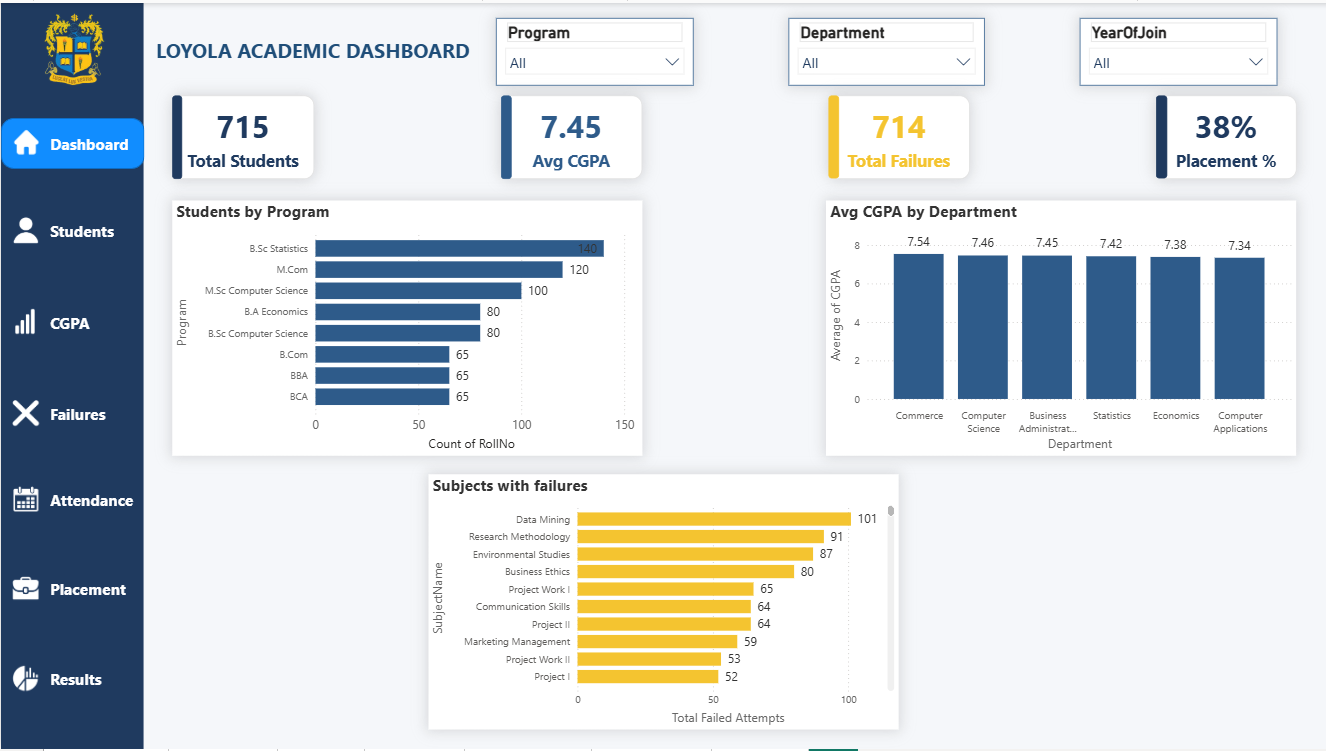

This screenshot's page, from the dashboard's own definition file:
{"tool":"powerbi","page":{"name":"Dashboard","canvas":[1600,900],"ordinal":0},"visuals":[{"type":"shape","box":[0,0,171.9,900.3],"z":0},{"type":"card","fields":{"Values":["students.Total Students"]},"box":[206.6,111.6,171.3,101],"z":0,"group":"g10"},{"type":"card","fields":{"Values":["students.Total Failures"]},"box":[998.3,111.6,170.2,101],"z":0,"group":"g12"},{"type":"card","fields":{"Values":["students.Placement %"]},"box":[1393.4,111.6,169.5,101],"z":0,"group":"g1"},{"type":"group","id":"g1","title":"Group 5","box":[1393.4,111.6,169.5,101],"z":0,"group":"g13"},{"type":"card","fields":{"Values":["students.Avg CGPA"]},"box":[602.8,111.7,170.2,101],"z":0,"group":"g11"},{"type":"group","id":"g2","title":"Group 14","box":[0,138.9,173.1,61.3],"z":0,"group":"g14"},{"type":"shape","title":"Shape1","box":[0,138.9,173.1,61.3],"z":0,"group":"g2"},{"type":"image","title":"Home","box":[12.9,153.2,33.2,31.7],"z":0,"group":"g3"},{"type":"image","box":[12.9,257.2,33.2,33.2],"z":0,"group":"g4"},{"type":"image","box":[12.9,367.3,33.2,33.2],"z":0,"group":"g5"},{"type":"image","box":[12.9,477.4,33.2,33.2],"z":0,"group":"g6"},{"type":"image","box":[12.9,583,33.2,33.2],"z":0,"group":"g7"},{"type":"image","box":[12.9,688.5,33.2,33.2],"z":0,"group":"g8"},{"type":"image","box":[12.9,797.1,33.2,33.2],"z":0,"group":"g9"},{"type":"textbox","box":[173.4,36.2,405.7,64.8],"z":1000},{"type":"shape","box":[602.9,111.4,12.5,100.8],"z":1000,"group":"g11"},{"type":"shape","box":[206.8,111.8,12.4,101],"z":1000,"group":"g10"},{"type":"shape","box":[998,111.8,12.7,100],"z":1000,"group":"g12"},{"type":"shape","box":[1393.7,112,13.6,100],"z":1000,"group":"g1"},{"type":"group","id":"g3","title":"Group 6","box":[12.9,153.2,148.7,39.7],"z":1000,"group":"g2"},{"type":"textbox","box":[53.4,153.2,108.2,39.7],"z":1000,"group":"g3"},{"type":"group","id":"g4","title":"Group 8","box":[12.9,257.2,136.1,40.2],"z":1000,"group":"g15"},{"type":"textbox","box":[53.4,257.8,95.6,39.7],"z":1000,"group":"g4"},{"type":"group","id":"g5","title":"Group 9","box":[12.9,367.3,101.8,40.2],"z":1000,"group":"g16"},{"type":"textbox","box":[53.4,367.8,61.3,39.7],"z":1000,"group":"g5"},{"type":"group","id":"g6","title":"Group 10","box":[12.9,477.4,136.1,40.1],"z":1000,"group":"g17"},{"type":"textbox","box":[53.4,477.8,95.6,39.7],"z":1000,"group":"g6"},{"type":"group","id":"g7","title":"Group 11","box":[12.9,582.5,160.2,39.7],"z":1000,"group":"g18"},{"type":"textbox","box":[54.1,582.5,119,39.7],"z":1000,"group":"g7"},{"type":"group","id":"g8","title":"Group 12","box":[12.9,688.5,150.5,40],"z":1000,"group":"g19"},{"type":"textbox","box":[53.4,688.8,110,39.7],"z":1000,"group":"g8"},{"type":"group","id":"g9","title":"Group 13","box":[12.9,797,114.4,39.7],"z":1000,"group":"g20"},{"type":"textbox","box":[53.4,797,73.9,39.7],"z":1000,"group":"g9"},{"type":"image","box":[39.2,9,98,95],"z":2000},{"type":"slicer","fields":{"Values":["students.Program"]},"box":[597.2,18.1,238.3,81.4],"z":3000},{"type":"slicer","fields":{"Values":["students.Department"]},"box":[950.1,18.4,236.8,81.4],"z":4000},{"type":"slicer","fields":{"Values":["students.YearOfJoin"]},"box":[1301.4,18.1,238.3,81.4],"z":5000},{"type":"clusteredColumnChart","title":"Avg CGPA by Department","fields":{"Category":["students.Department"],"Y":["Avg(students.CGPA)"]},"box":[995.3,238.3,567,307.6],"z":6000},{"type":"group","id":"g10","title":"Group 1","box":[206.6,111.6,171.3,101.1],"z":7000},{"type":"group","id":"g11","title":"Group 2","box":[602.8,111.4,170.2,101.2],"z":8000},{"type":"group","id":"g12","title":"Group 3","box":[998,111.6,170.5,101],"z":9000},{"type":"group","id":"g13","title":"Group 4","box":[1393.4,111.6,170.4,101],"z":10000},{"type":"clusteredBarChart","title":"Subjects with failures","fields":{"Category":["scores.SubjectName"],"Y":["scores.Total Failed Attempts"]},"box":[516.5,568.5,567,307.6],"z":11000},{"type":"group","id":"g14","title":"Group 7","box":[0,138.9,173.1,61.3],"z":12000},{"type":"group","id":"g15","title":"Group 15","box":[0,245.8,173.4,61.8],"z":13000},{"type":"group","id":"g16","title":"Group 16","box":[0,354.4,173.4,61.8],"z":14000},{"type":"group","id":"g17","title":"Group 17","box":[0,466,173.4,61.8],"z":15000},{"type":"group","id":"g18","title":"Group 18","box":[0,570,173.4,61.8],"z":16000},{"type":"group","id":"g19","title":"Group 19","box":[0,677.1,173.4,61.8],"z":17000},{"type":"group","id":"g20","title":"Group 20","box":[0,785.7,173.4,61.8],"z":18000},{"type":"clusteredBarChart","title":"Students by Program","fields":{"Category":["students.Program"],"Y":["CountNonNull(students.RollNo)"]},"box":[206.6,238.3,567,307.6],"z":19000}]}

Visuals, with their boxes on the page's 1600x900 design canvas (x1, y1, x2, y2). These are canvas units, not pixel positions in the 1326x751 screenshot, which may show the page scaled, cropped or inside an application window:
shape: Rect(0, 0, 172, 900)
card - students.Total Students: Rect(207, 112, 378, 213)
card - students.Total Failures: Rect(998, 112, 1168, 213)
card - students.Placement %: Rect(1393, 112, 1563, 213)
"Group 5" group: Rect(1393, 112, 1563, 213)
card - students.Avg CGPA: Rect(603, 112, 773, 213)
"Group 14" group: Rect(0, 139, 173, 200)
"Shape1" shape: Rect(0, 139, 173, 200)
"Home" image: Rect(13, 153, 46, 185)
image: Rect(13, 257, 46, 290)
image: Rect(13, 367, 46, 400)
image: Rect(13, 477, 46, 511)
image: Rect(13, 583, 46, 616)
image: Rect(13, 688, 46, 722)
image: Rect(13, 797, 46, 830)
textbox: Rect(173, 36, 579, 101)
shape: Rect(603, 111, 615, 212)
shape: Rect(207, 112, 219, 213)
shape: Rect(998, 112, 1011, 212)
shape: Rect(1394, 112, 1407, 212)
"Group 6" group: Rect(13, 153, 162, 193)
textbox: Rect(53, 153, 162, 193)
"Group 8" group: Rect(13, 257, 149, 297)
textbox: Rect(53, 258, 149, 298)
"Group 9" group: Rect(13, 367, 115, 408)
textbox: Rect(53, 368, 115, 408)
"Group 10" group: Rect(13, 477, 149, 518)
textbox: Rect(53, 478, 149, 518)
"Group 11" group: Rect(13, 582, 173, 622)
textbox: Rect(54, 582, 173, 622)
"Group 12" group: Rect(13, 688, 163, 728)
textbox: Rect(53, 689, 163, 728)
"Group 13" group: Rect(13, 797, 127, 837)
textbox: Rect(53, 797, 127, 837)
image: Rect(39, 9, 137, 104)
slicer - students.Program: Rect(597, 18, 836, 100)
slicer - students.Department: Rect(950, 18, 1187, 100)
slicer - students.YearOfJoin: Rect(1301, 18, 1540, 100)
"Avg CGPA by Department" clusteredColumnChart: Rect(995, 238, 1562, 546)
"Group 1" group: Rect(207, 112, 378, 213)
"Group 2" group: Rect(603, 111, 773, 213)
"Group 3" group: Rect(998, 112, 1168, 213)
"Group 4" group: Rect(1393, 112, 1564, 213)
"Subjects with failures" clusteredBarChart: Rect(516, 568, 1084, 876)
"Group 7" group: Rect(0, 139, 173, 200)
"Group 15" group: Rect(0, 246, 173, 308)
"Group 16" group: Rect(0, 354, 173, 416)
"Group 17" group: Rect(0, 466, 173, 528)
"Group 18" group: Rect(0, 570, 173, 632)
"Group 19" group: Rect(0, 677, 173, 739)
"Group 20" group: Rect(0, 786, 173, 848)
"Students by Program" clusteredBarChart: Rect(207, 238, 774, 546)
